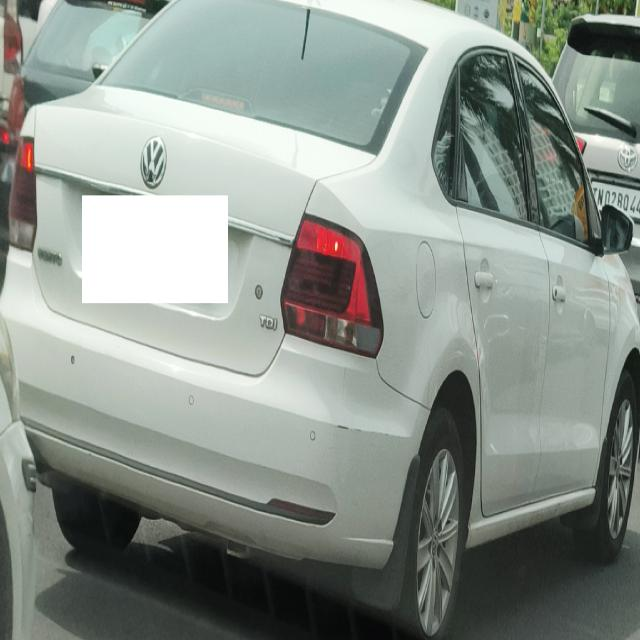scratch: (332, 416, 394, 442)
